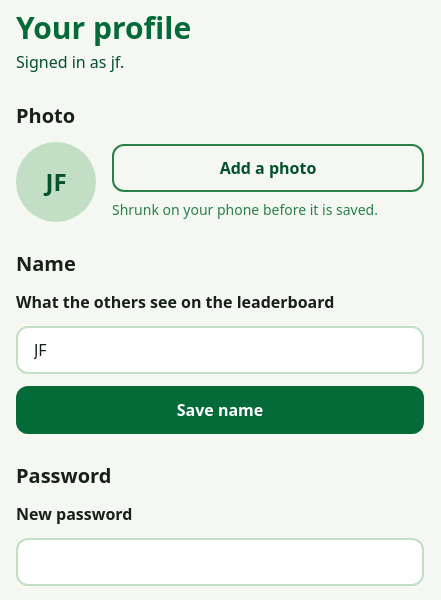
Test: ProfileScreen › saves a new display name, trimmed
The image size is (441, 600).
Replace the text in the field labelled "What the others see on the leaderboard" with "  Big Deal  " at (220, 350), box [16,326,424,374]
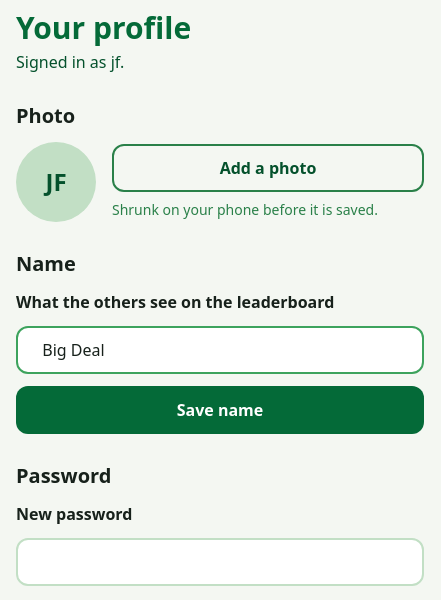
Click the button "Save name".
click(220, 410)  # box [16,386,424,434]
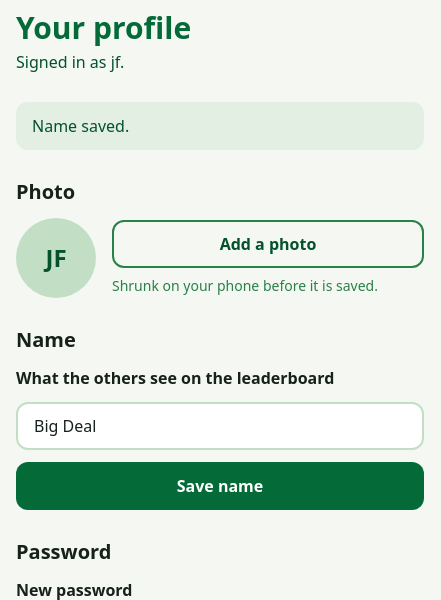
Expected: the text "Name saved." is shown, [16,102,424,150]
